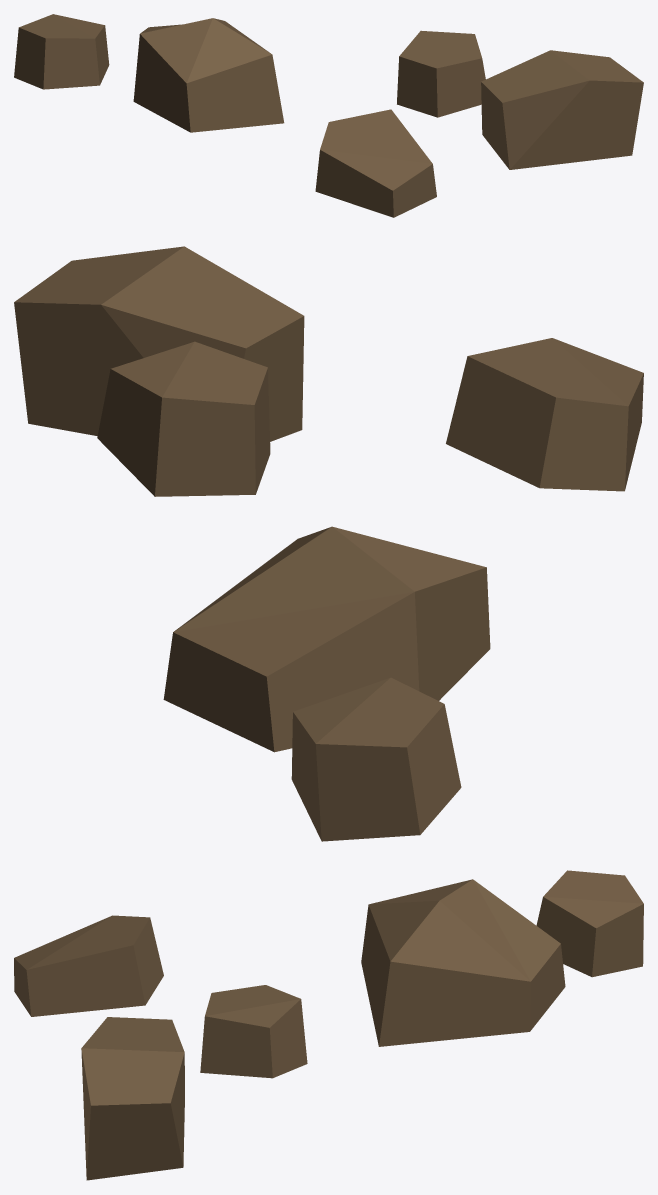
Rendered from SM_Env_Dirt_Rocks_01.glb.
3 renders of one model, top to bottom at view 1: azimuth 30°, elevation 25°; view 2: azimuth 150°, elevation 25°; view 3: azimuth 270°, elevation 25°, orthographic. The views are drawn at different scales.
Parts seen in each view (by area): view 1: SM_Env_Dirt_Rocks_01; view 2: SM_Env_Dirt_Rocks_01; view 3: SM_Env_Dirt_Rocks_01.
Boxes of the visible parts, x1,y1,x2,y2 form: SM_Env_Dirt_Rocks_01: [14, 14, 643, 217]; SM_Env_Dirt_Rocks_01: [14, 246, 643, 841]; SM_Env_Dirt_Rocks_01: [14, 870, 643, 1180].
Size of the model in its own units: 1.45 by 0.3323 by 1.59.
1 material, 1 textured.
